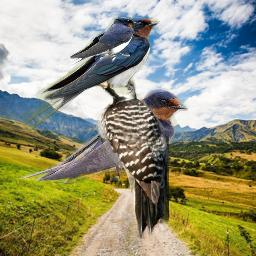Swallow: (19, 88, 188, 184), (23, 17, 160, 131), (61, 17, 138, 71)
Woodpecker: (86, 76, 169, 240)
